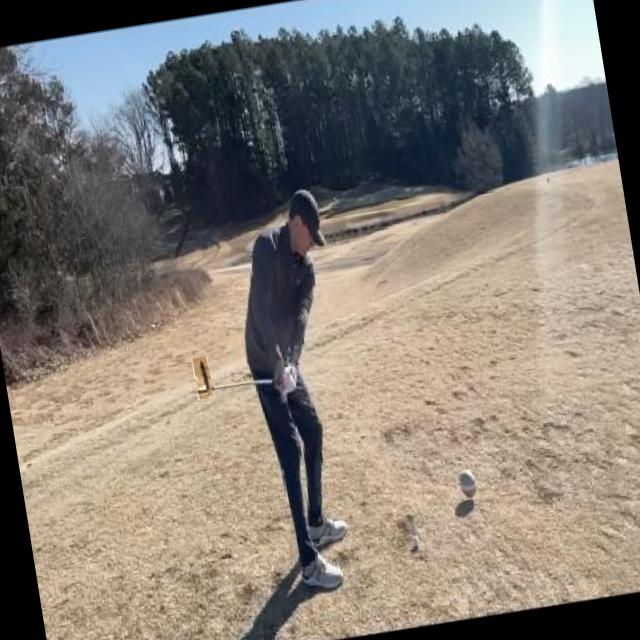club head: (192, 356, 214, 400)
